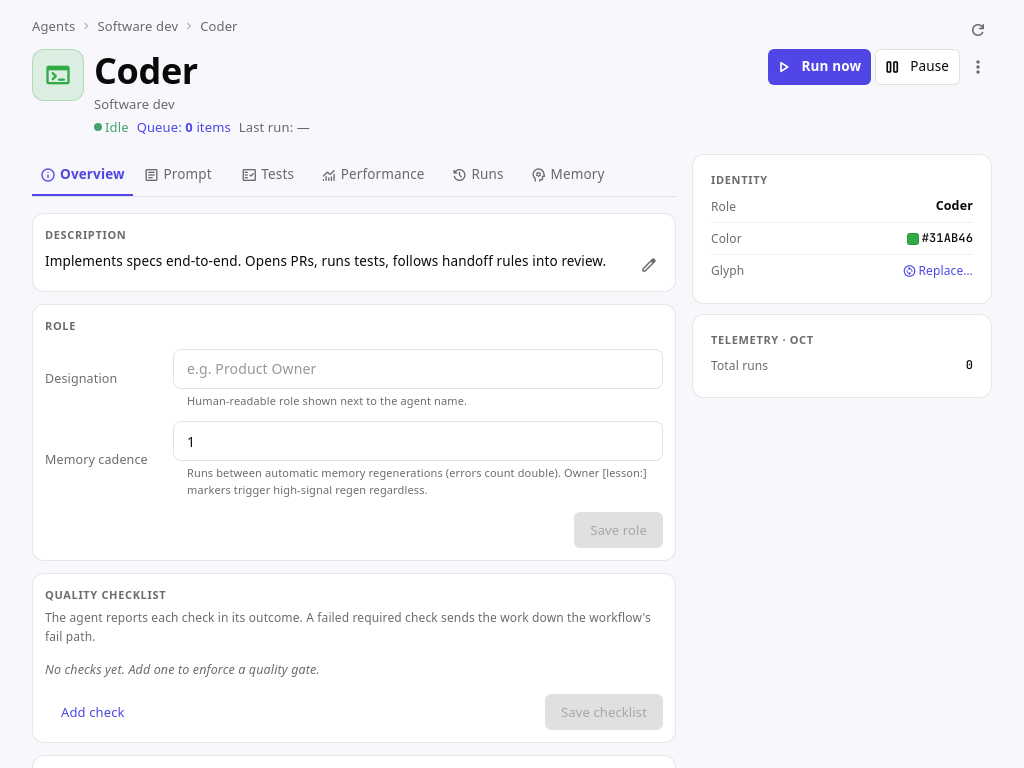
Test: AgentDetail › action buttons › opens EditAgentColorModal when accent color row in sidebar is clicked
Check: the tab "Overview" is shown, box [32,154,133,196]
Click the text "#31AB46".
click(947, 239)  # box [922,229,973,248]
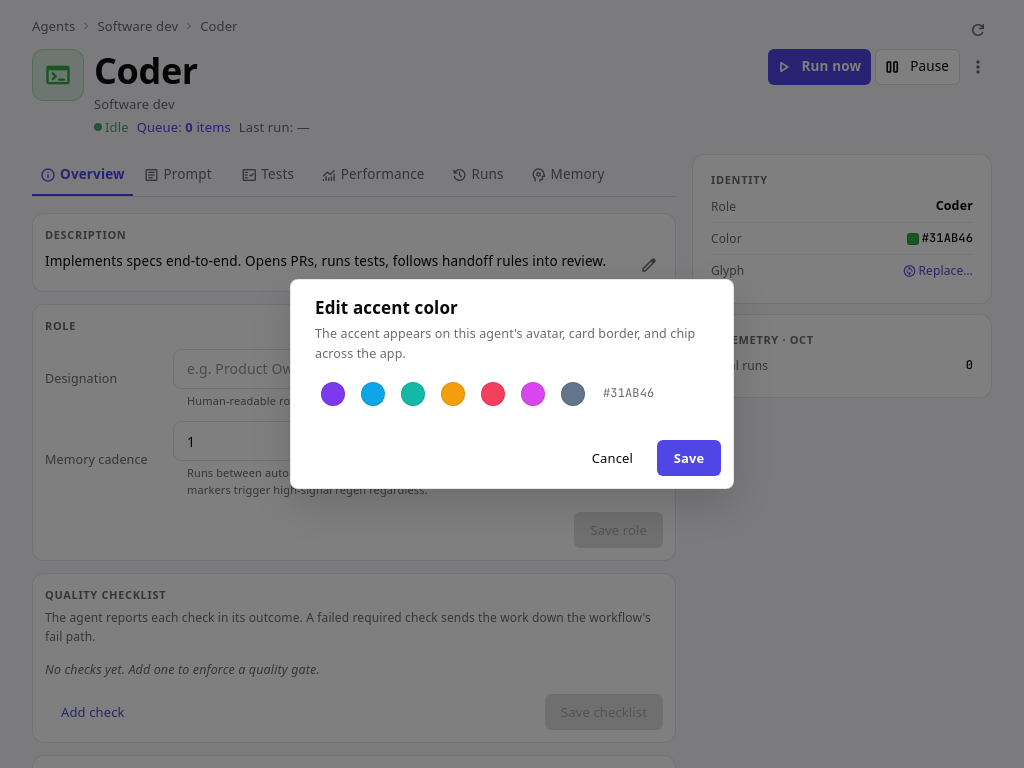
Check: the heading "Edit accent color" is shown, box [315,296,458,319]
